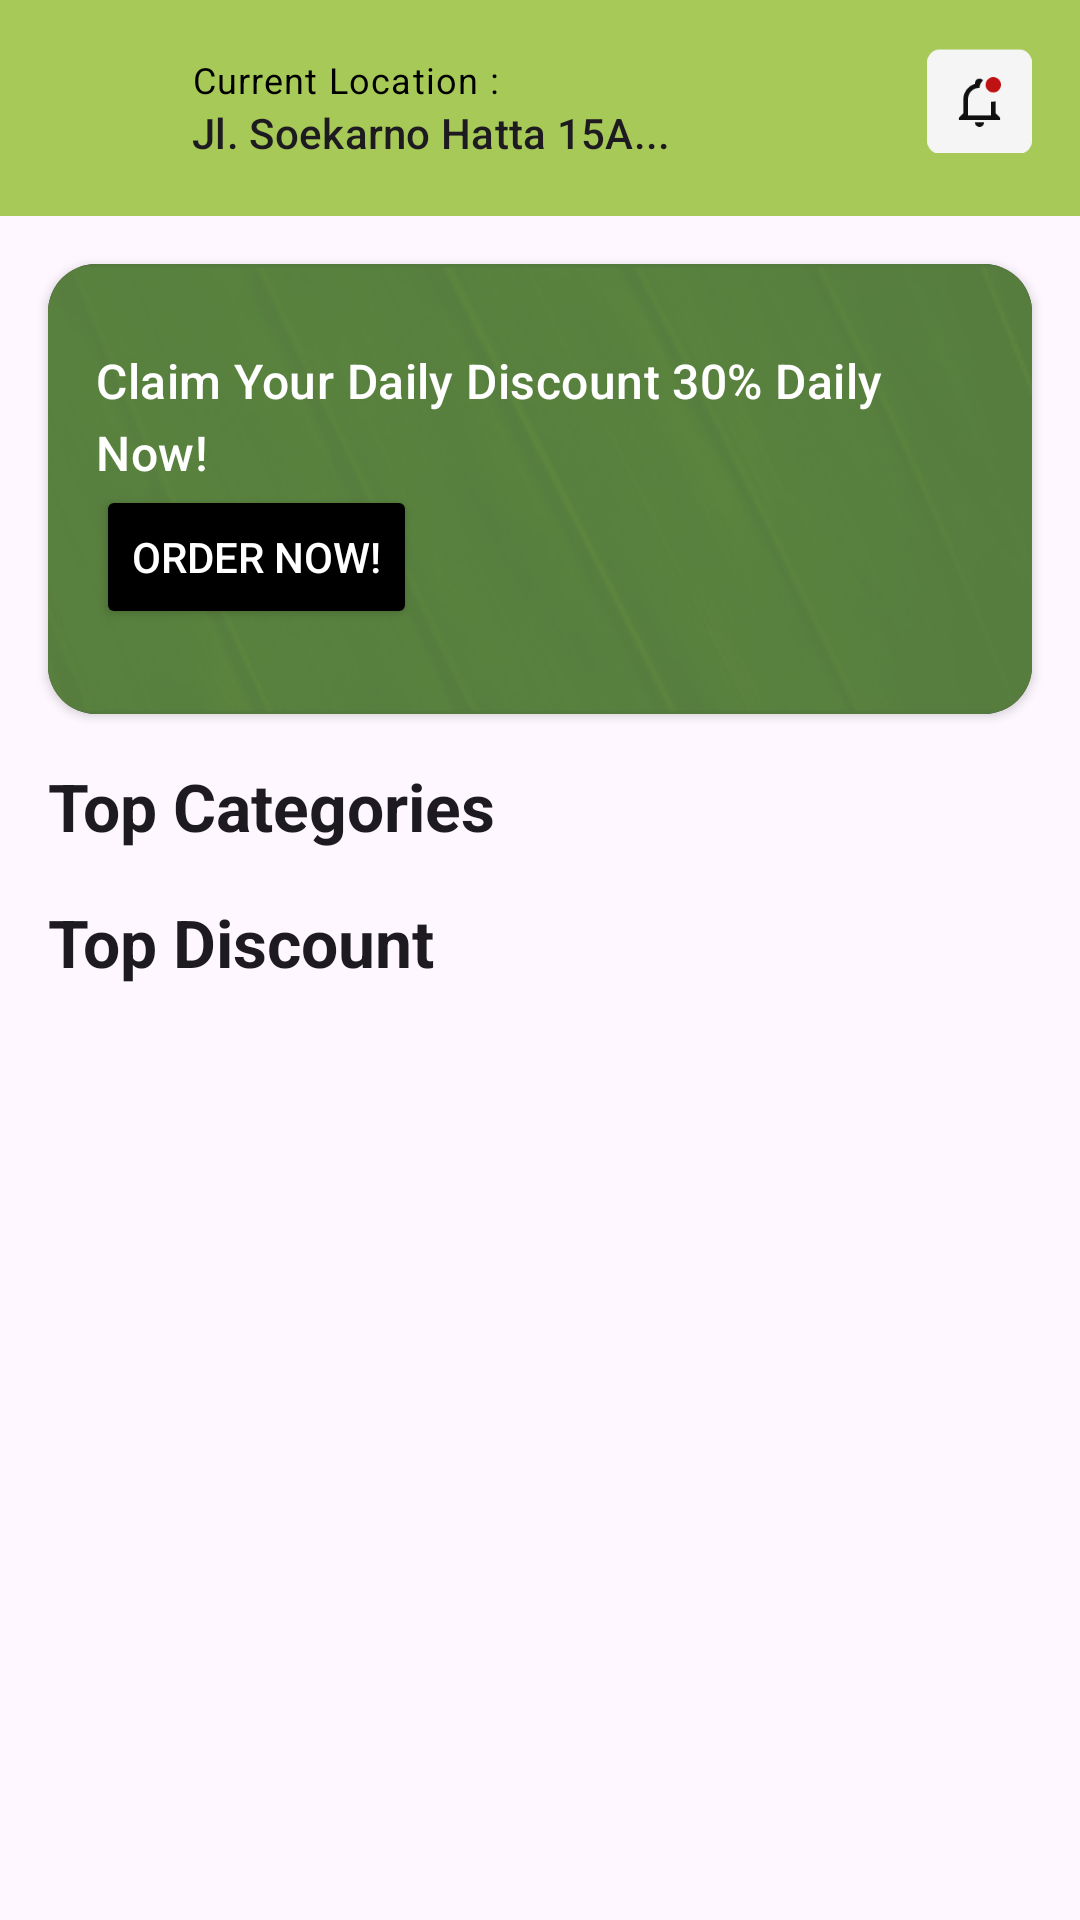

Where to tap for icons on this 1080x1920 app screen, as (x=x, y=y):
notification: (x=979, y=101)
